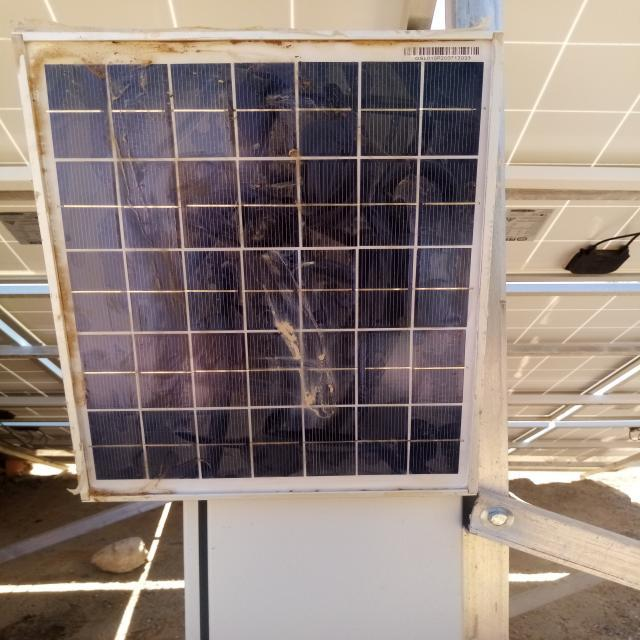faulty: (23, 35, 498, 495)
